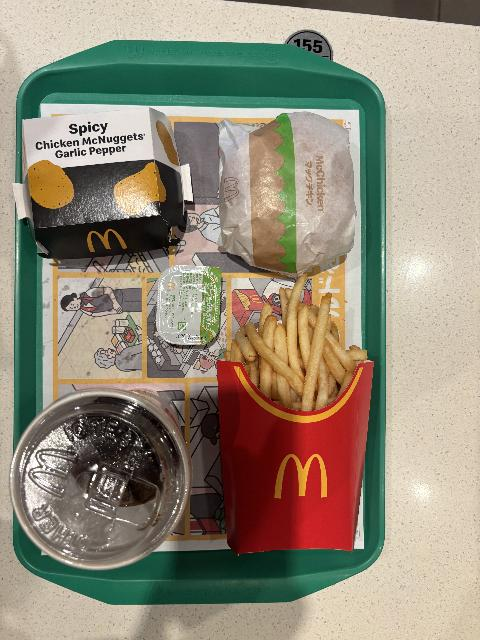burger: (218, 108, 358, 279)
drink: (10, 386, 191, 571)
fries: (215, 273, 375, 557)
nuggets: (13, 106, 195, 259)
sauce: (157, 266, 222, 349)
